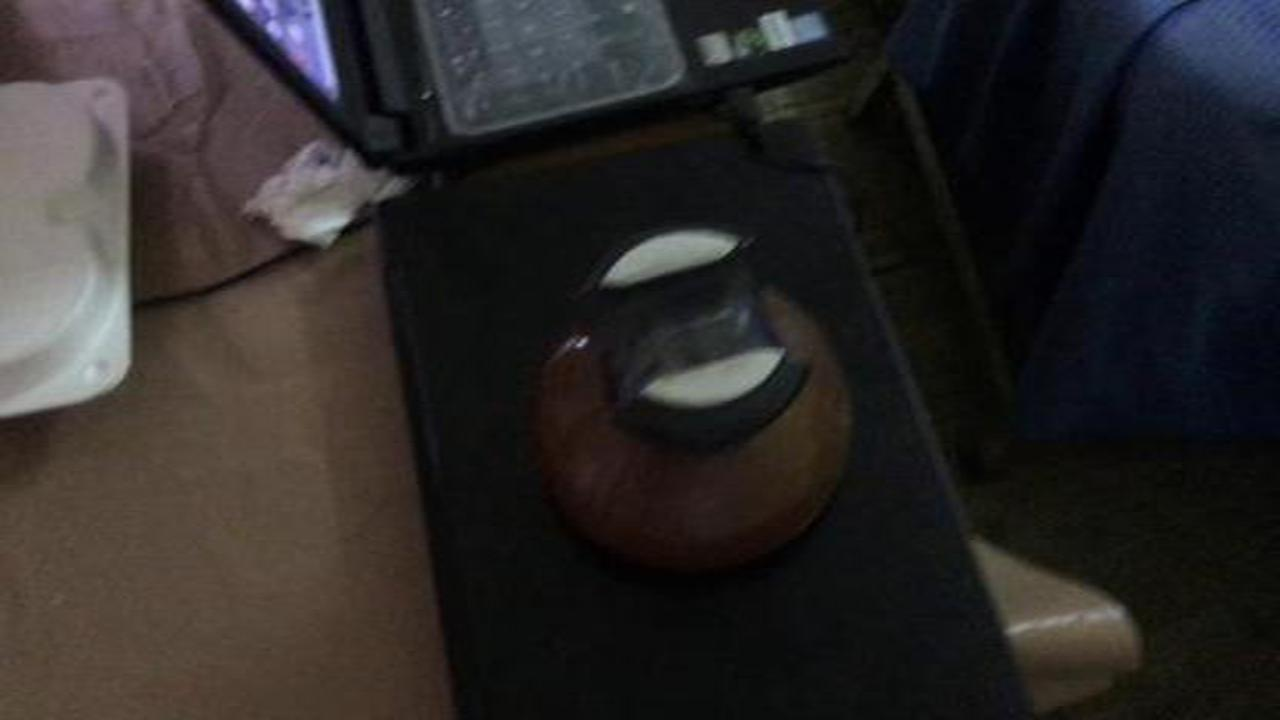insulator_pin: (508, 207, 881, 603)
